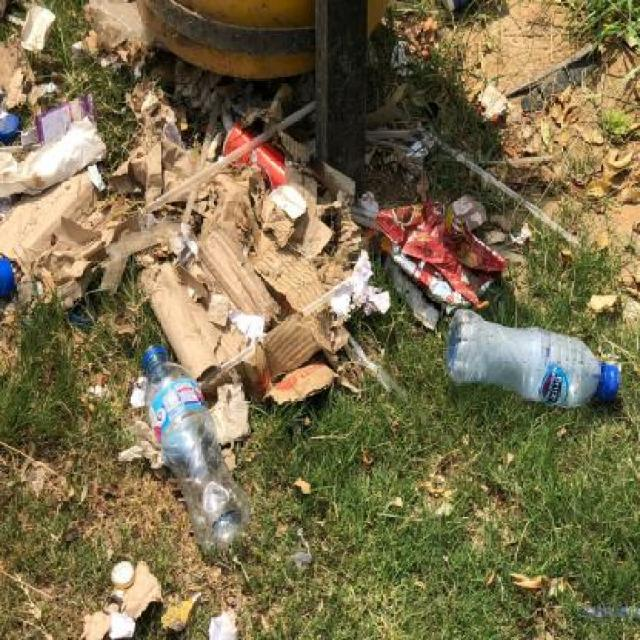garbage: (0, 0, 343, 392), (134, 335, 258, 570), (440, 289, 628, 431), (359, 189, 522, 316), (466, 65, 539, 129)
